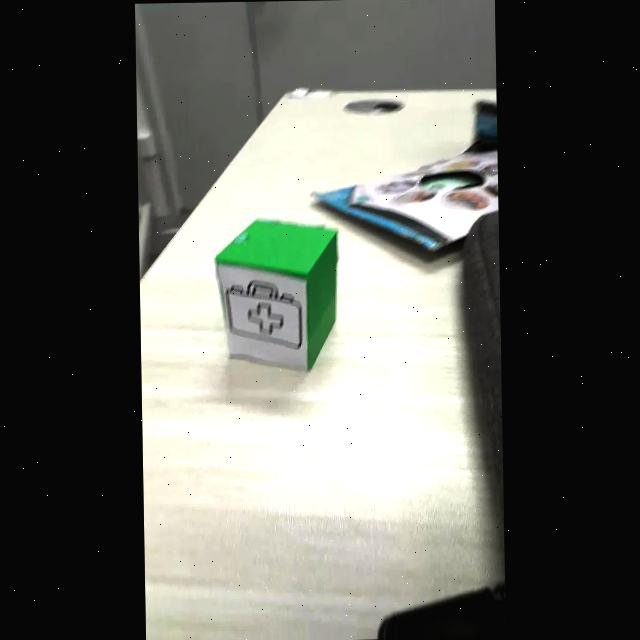Earthquake: (298, 333, 300, 352)
Medkit: (225, 281, 301, 349)
